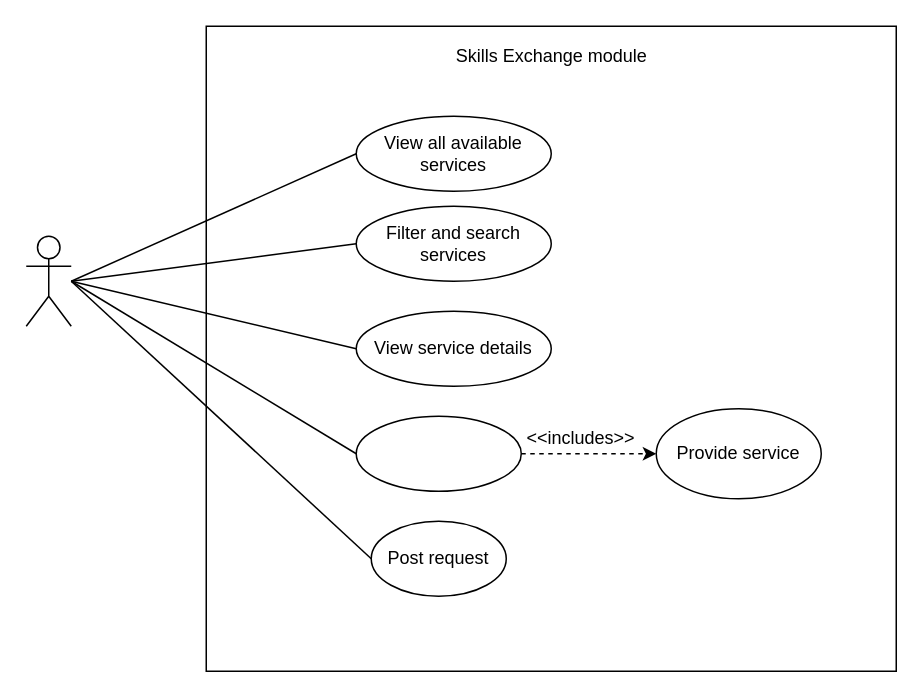
This 923x698 diagram has some shape labels left out. Here are the shapes that lost their labels. From the top down, the centre of each, then its label:
At (x=48, y=280): "User".
At (x=438, y=453): "Accept a request".
